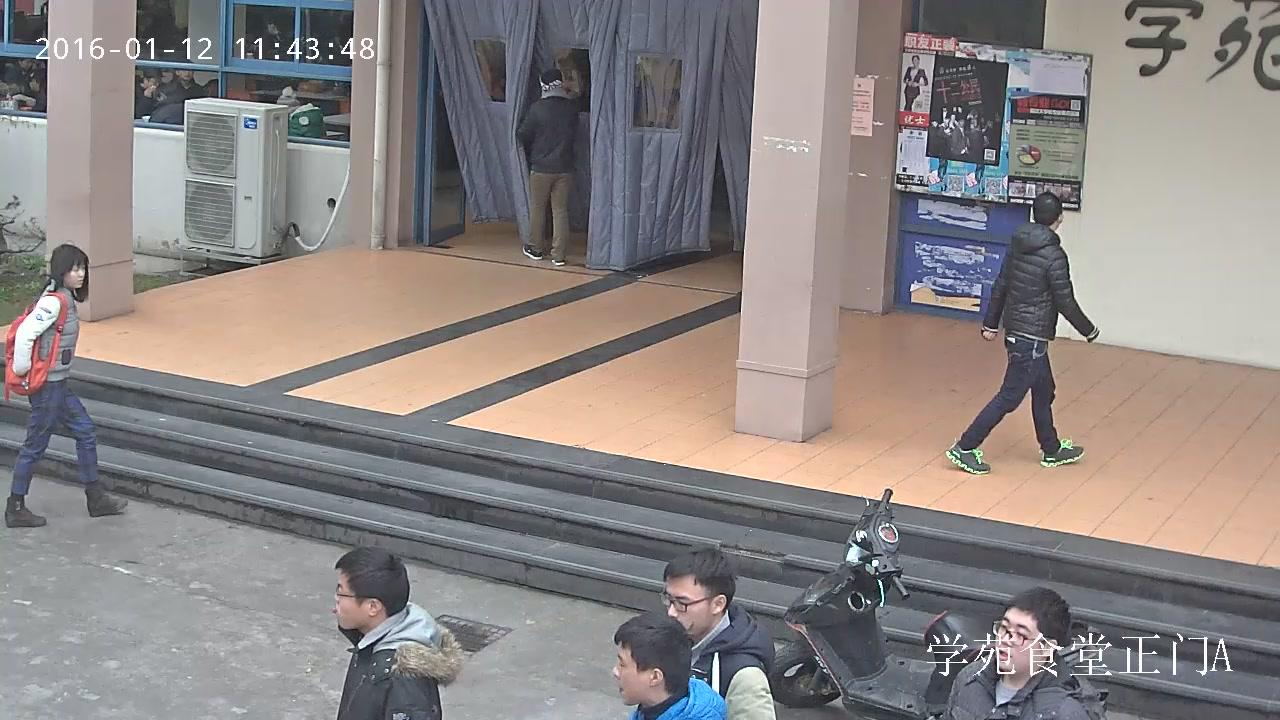person: (943, 191, 1099, 475), (4, 244, 129, 526), (331, 547, 463, 720), (946, 587, 1109, 720), (660, 543, 777, 720), (514, 66, 580, 265), (275, 86, 326, 139), (132, 66, 167, 119), (164, 58, 206, 101), (146, 84, 186, 124), (902, 54, 928, 113)
